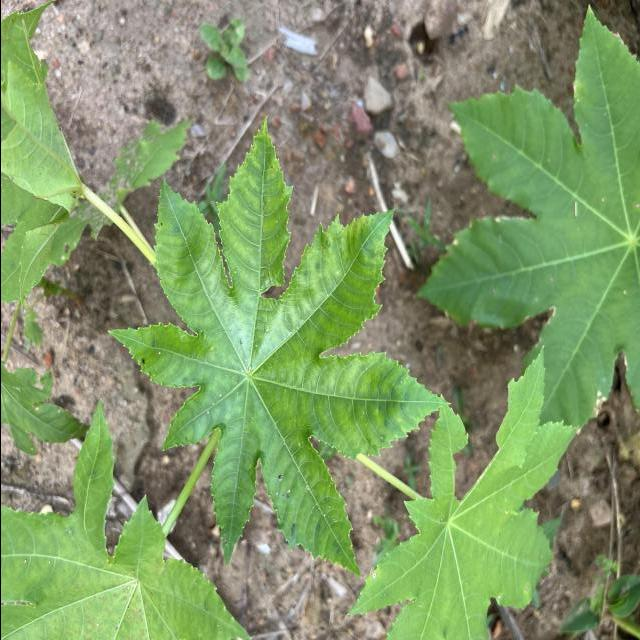Ricinus communis linn: (101, 110, 455, 582)
